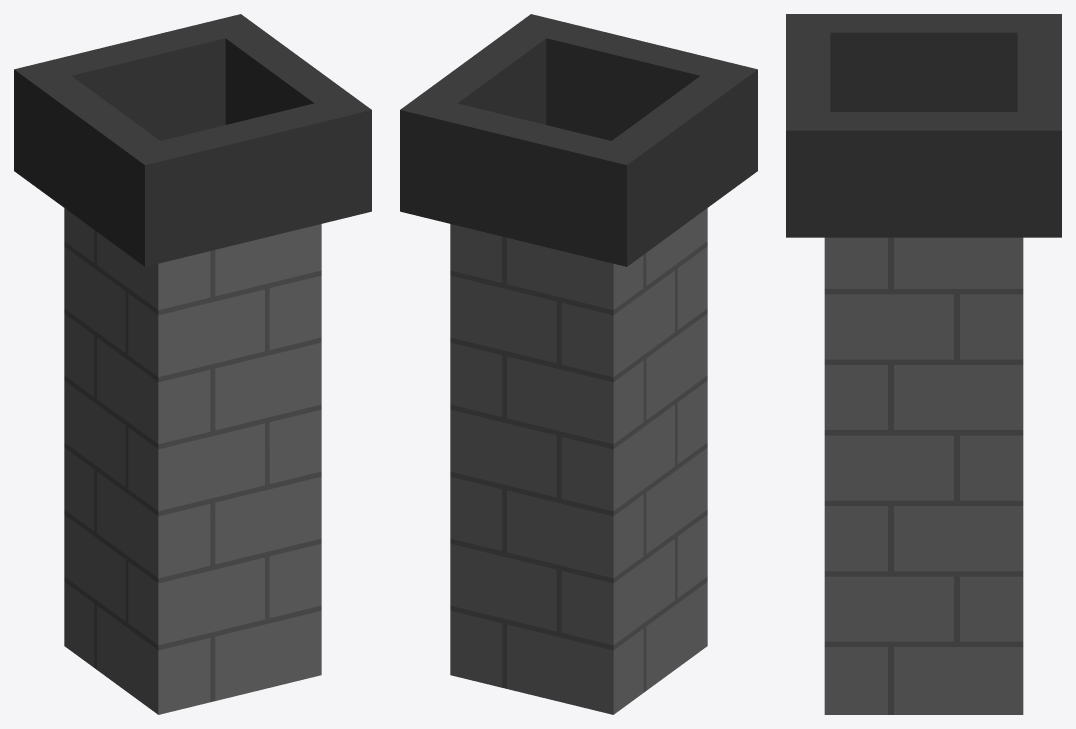
The model's file is Chimney2_C6.fbx.
3 renders of one model, left to right at view 1: azimuth 30°, elevation 25°; view 2: azimuth 150°, elevation 25°; view 3: azimuth 270°, elevation 25°, orthographic. The views are drawn at different scales.
Parts seen in each view (by area): view 1: Chimney2_C6; view 2: Chimney2_C6; view 3: Chimney2_C6.
Part boxes in pixels (bbox=[...]): Chimney2_C6: bbox=[14, 14, 371, 714]; Chimney2_C6: bbox=[400, 14, 757, 714]; Chimney2_C6: bbox=[786, 14, 1061, 714].
Bounding box in the file's own units: 55.59 × 134 × 55.59.
